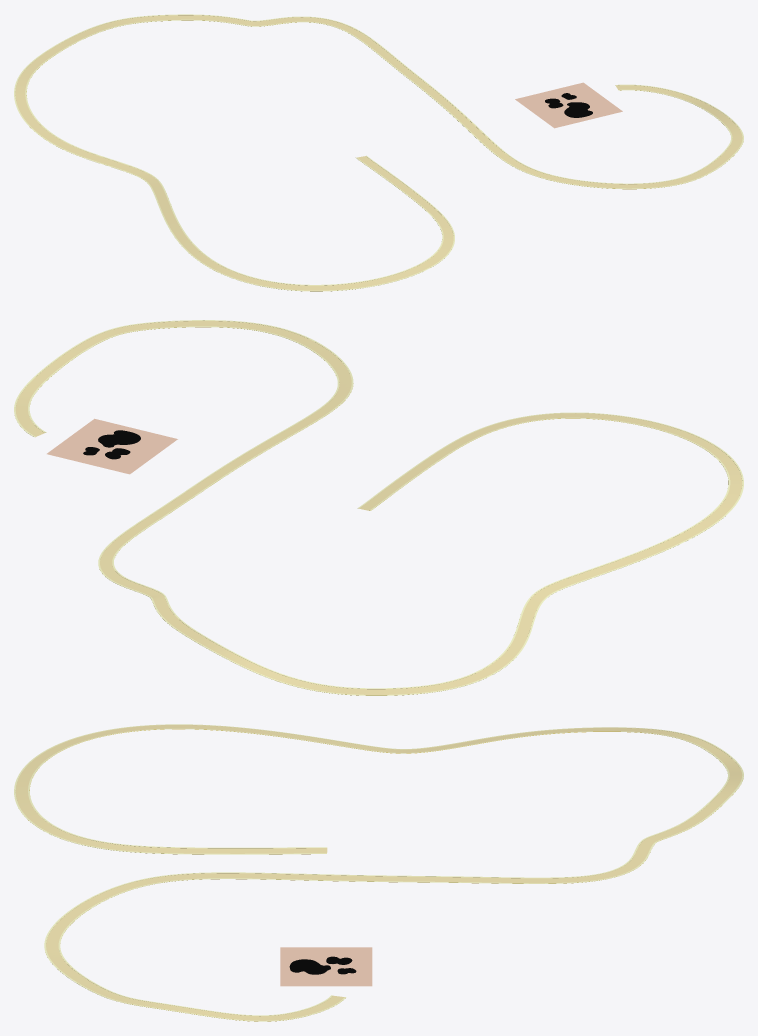
Rendered from ÓLEO.fbx.
3 renders of one model, top to bottom at view 1: azimuth 30°, elevation 25°; view 2: azimuth 150°, elevation 25°; view 3: azimuth 270°, elevation 25°, orthographic. The views are drawn at different scales.
Visible parts, largest first — view 1: pista, Plane, oleo; view 2: pista, Plane, oleo; view 3: pista, Plane, oleo.
Boxes of the visible parts, x1,y1,x2,y2 form: pista: (14, 14, 743, 291); Plane: (515, 82, 622, 128); oleo: (545, 93, 592, 117); pista: (14, 320, 743, 695); Plane: (47, 418, 177, 474); oleo: (83, 430, 140, 459); pista: (14, 724, 743, 1021); Plane: (280, 947, 372, 986); oleo: (289, 956, 356, 974).
Size of the model in its own units: 8972 by 435 by 9109.
